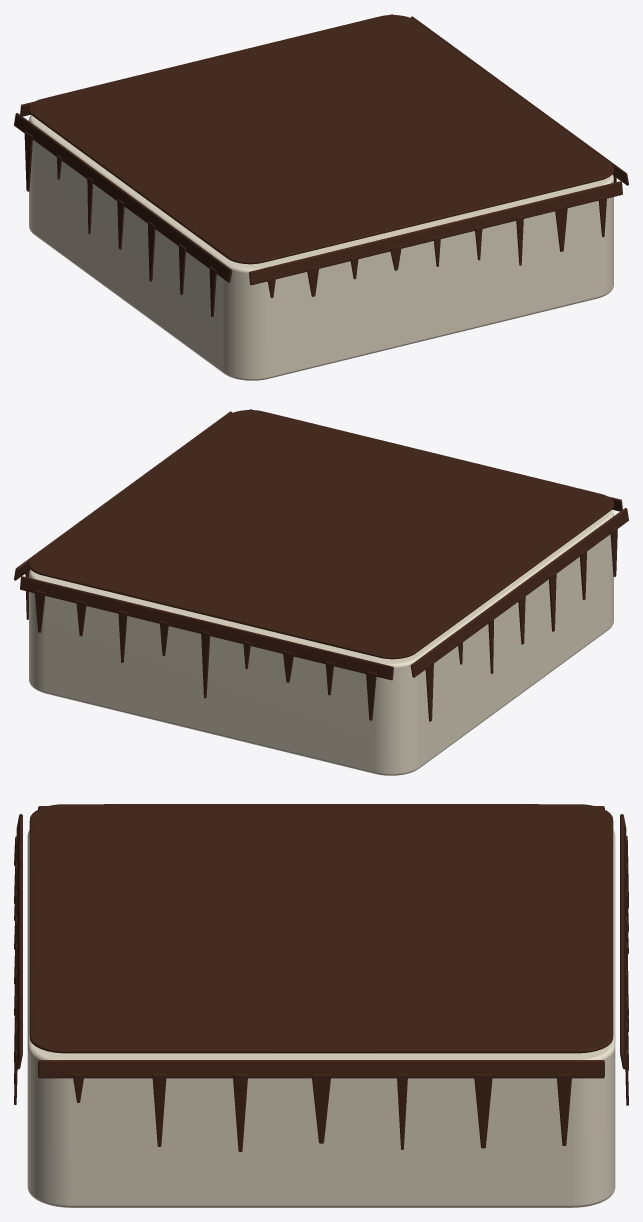
Rendered from square_1_tier.glb.
3 renders of one model, top to bottom at view 1: azimuth 30°, elevation 25°; view 2: azimuth 150°, elevation 25°; view 3: azimuth 270°, elevation 25°, orthographic. The views are drawn at different scales.
Visible parts, largest first — view 1: square_1_L1_copied_circle_style_front_thick_edge_band, square_1_L1_body, square_1_L1_copied_circle_style_left_thick_edge_band, square_1_L1_copied_circle_style_right_thick_edge_band; view 2: square_1_L1_copied_circle_style_front_thick_edge_band, square_1_L1_body, square_1_L1_copied_circle_style_back_thick_edge_band, square_1_L1_copied_circle_style_left_thick_edge_band, square_1_L1_copied_circle_style_right_thick_edge_band; view 3: square_1_L1_copied_circle_style_front_thick_edge_band, square_1_L1_body, square_1_L1_copied_circle_style_right_thick_edge_band, square_1_L1_copied_circle_style_right_tapered_curtain_drip_0 (×6), square_1_L1_copied_circle_style_back_thick_edge_band.
Boxes of the visible parts, left/top/right/bottom form: square_1_L1_copied_circle_style_front_thick_edge_band: left=28, top=15, right=622, bottom=285; square_1_L1_body: left=29, top=115, right=613, bottom=380; square_1_L1_copied_circle_style_left_thick_edge_band: left=14, top=113, right=232, bottom=282; square_1_L1_copied_circle_style_right_thick_edge_band: left=410, top=16, right=628, bottom=185; square_1_L1_copied_circle_style_front_thick_edge_band: left=28, top=409, right=622, bottom=659; square_1_L1_body: left=29, top=510, right=613, bottom=775; square_1_L1_copied_circle_style_back_thick_edge_band: left=20, top=576, right=393, bottom=680; square_1_L1_copied_circle_style_left_thick_edge_band: left=410, top=508, right=628, bottom=677; square_1_L1_copied_circle_style_right_thick_edge_band: left=14, top=411, right=232, bottom=580; square_1_L1_copied_circle_style_front_thick_edge_band: left=16, top=804, right=613, bottom=1069; square_1_L1_body: left=27, top=830, right=615, bottom=1207; square_1_L1_copied_circle_style_right_thick_edge_band: left=38, top=1060, right=604, bottom=1078; square_1_L1_copied_circle_style_right_tapered_curtain_drip_0 (×6): left=152, top=1074, right=571, bottom=1151; square_1_L1_copied_circle_style_back_thick_edge_band: left=620, top=814, right=626, bottom=1069.
Bounding box in the file's own units: 5.86 × 1.66 × 5.86.
